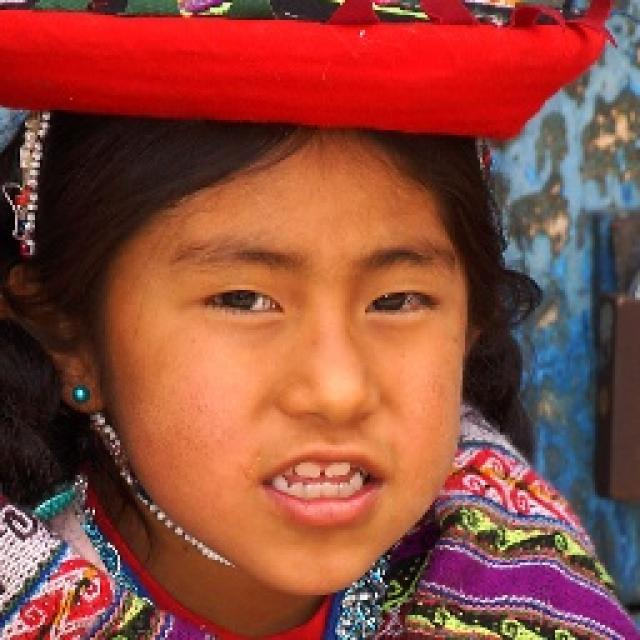earlobe: (48, 352, 109, 413)
eye: (204, 282, 284, 320), (361, 290, 439, 316)
nose: (280, 412, 379, 446)
wholeear: (9, 271, 108, 414)
